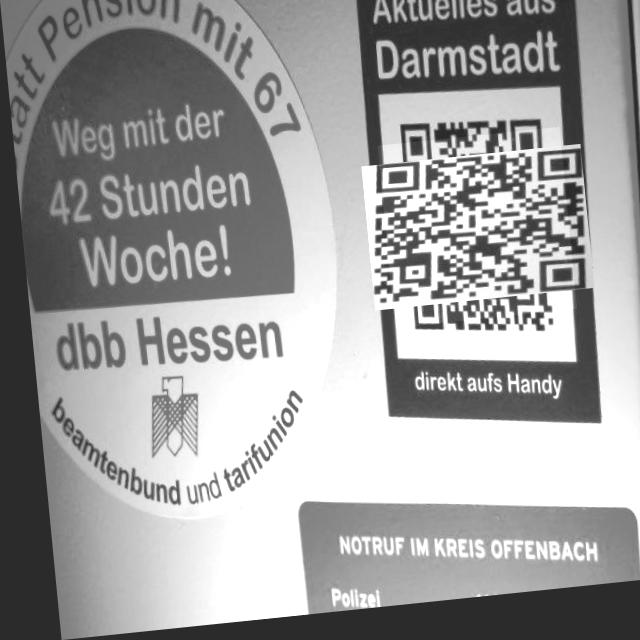qr_code: (374, 139, 570, 336)
